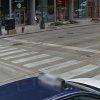Crosswalk: (2, 38, 91, 79)
